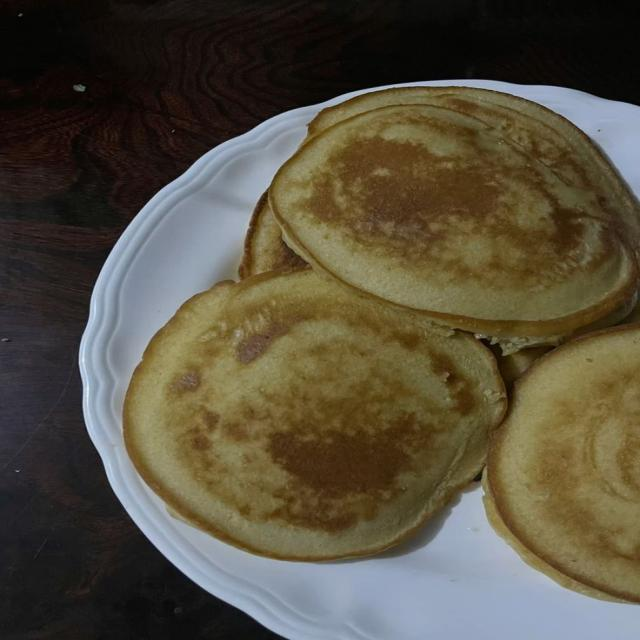pancake: (124, 270, 506, 560), (269, 105, 638, 348), (307, 87, 639, 253), (486, 325, 639, 602), (482, 468, 627, 602), (239, 192, 306, 279), (571, 295, 639, 338), (492, 346, 552, 390), (623, 299, 639, 323)
